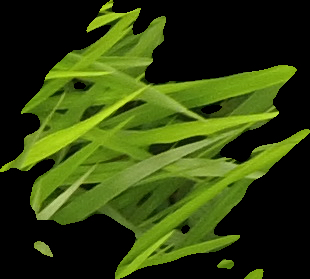grass: (1, 1, 309, 277)
